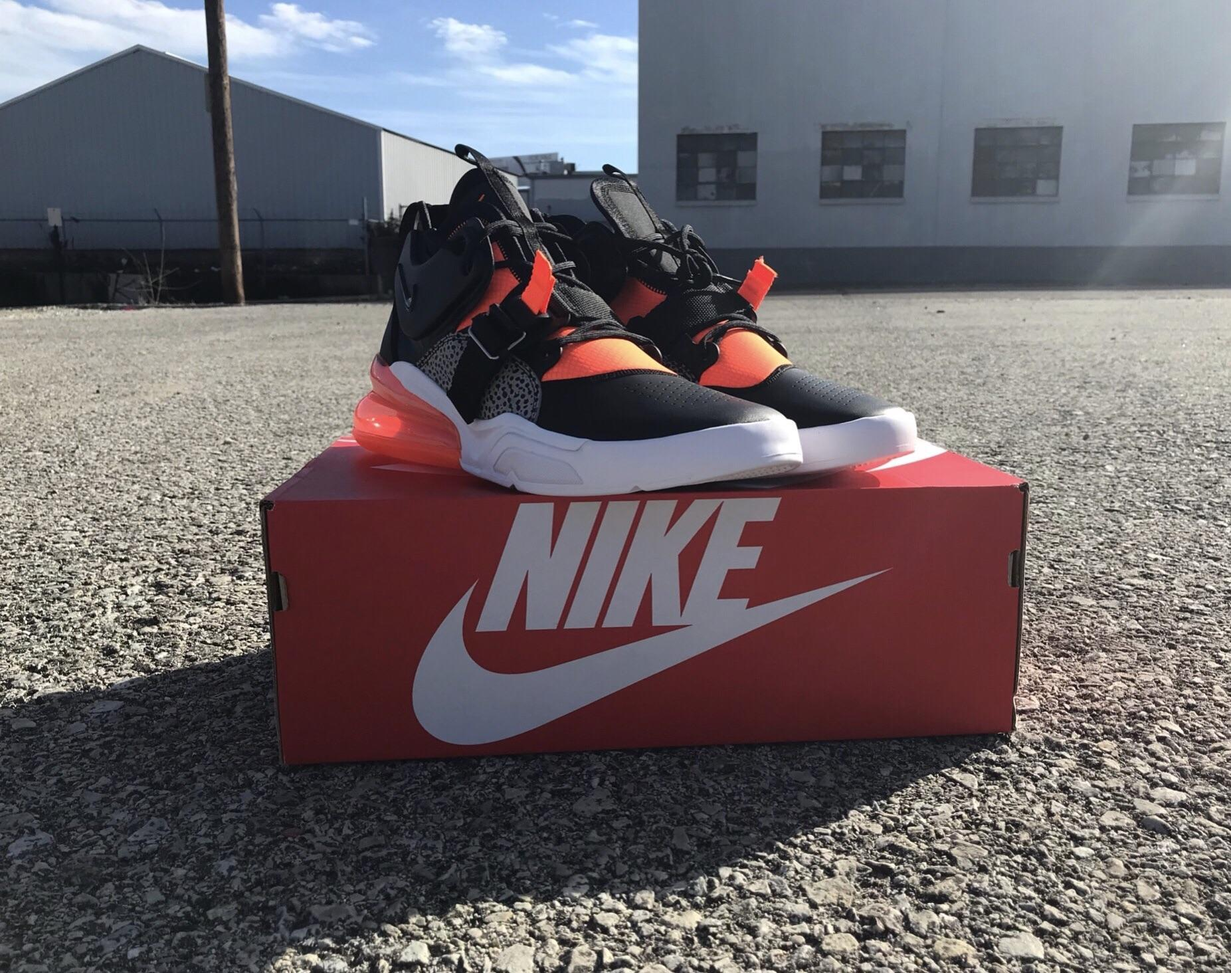sneaker: (335, 154, 806, 512), (536, 159, 944, 474)
